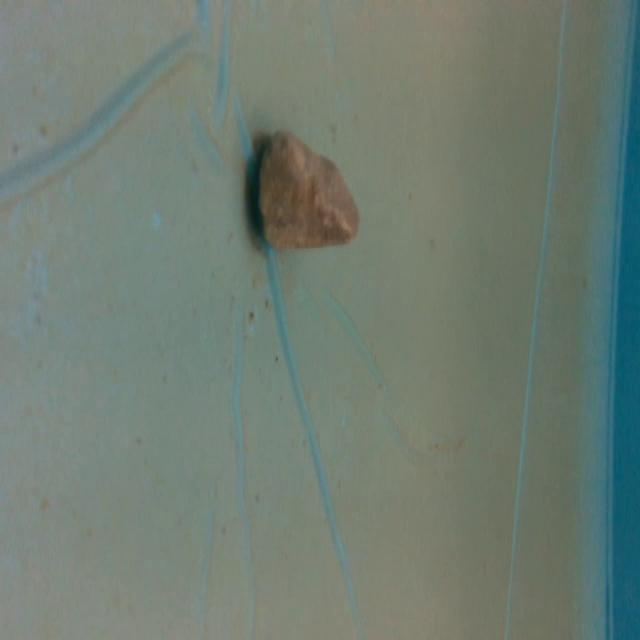rock: (253, 123, 364, 257)
